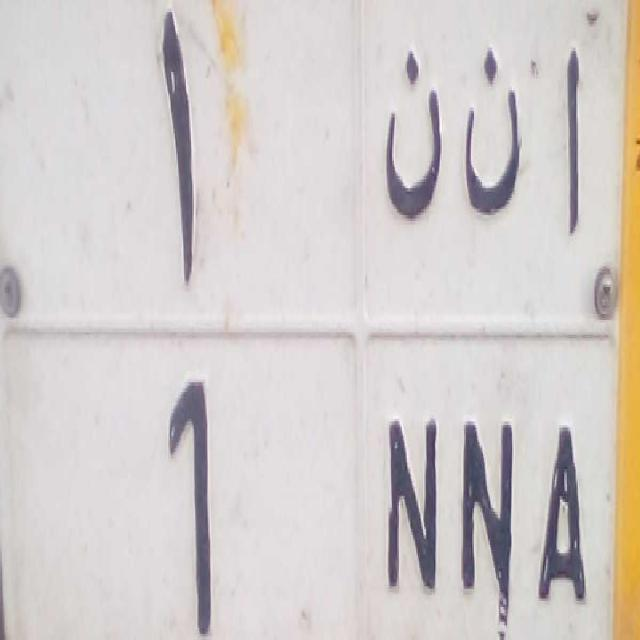license_plate: (0, 327, 617, 640)
